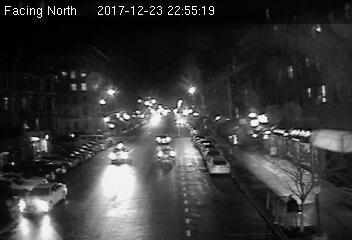car: (109, 142, 132, 164), (209, 157, 231, 176), (155, 146, 177, 163), (154, 132, 171, 145)
